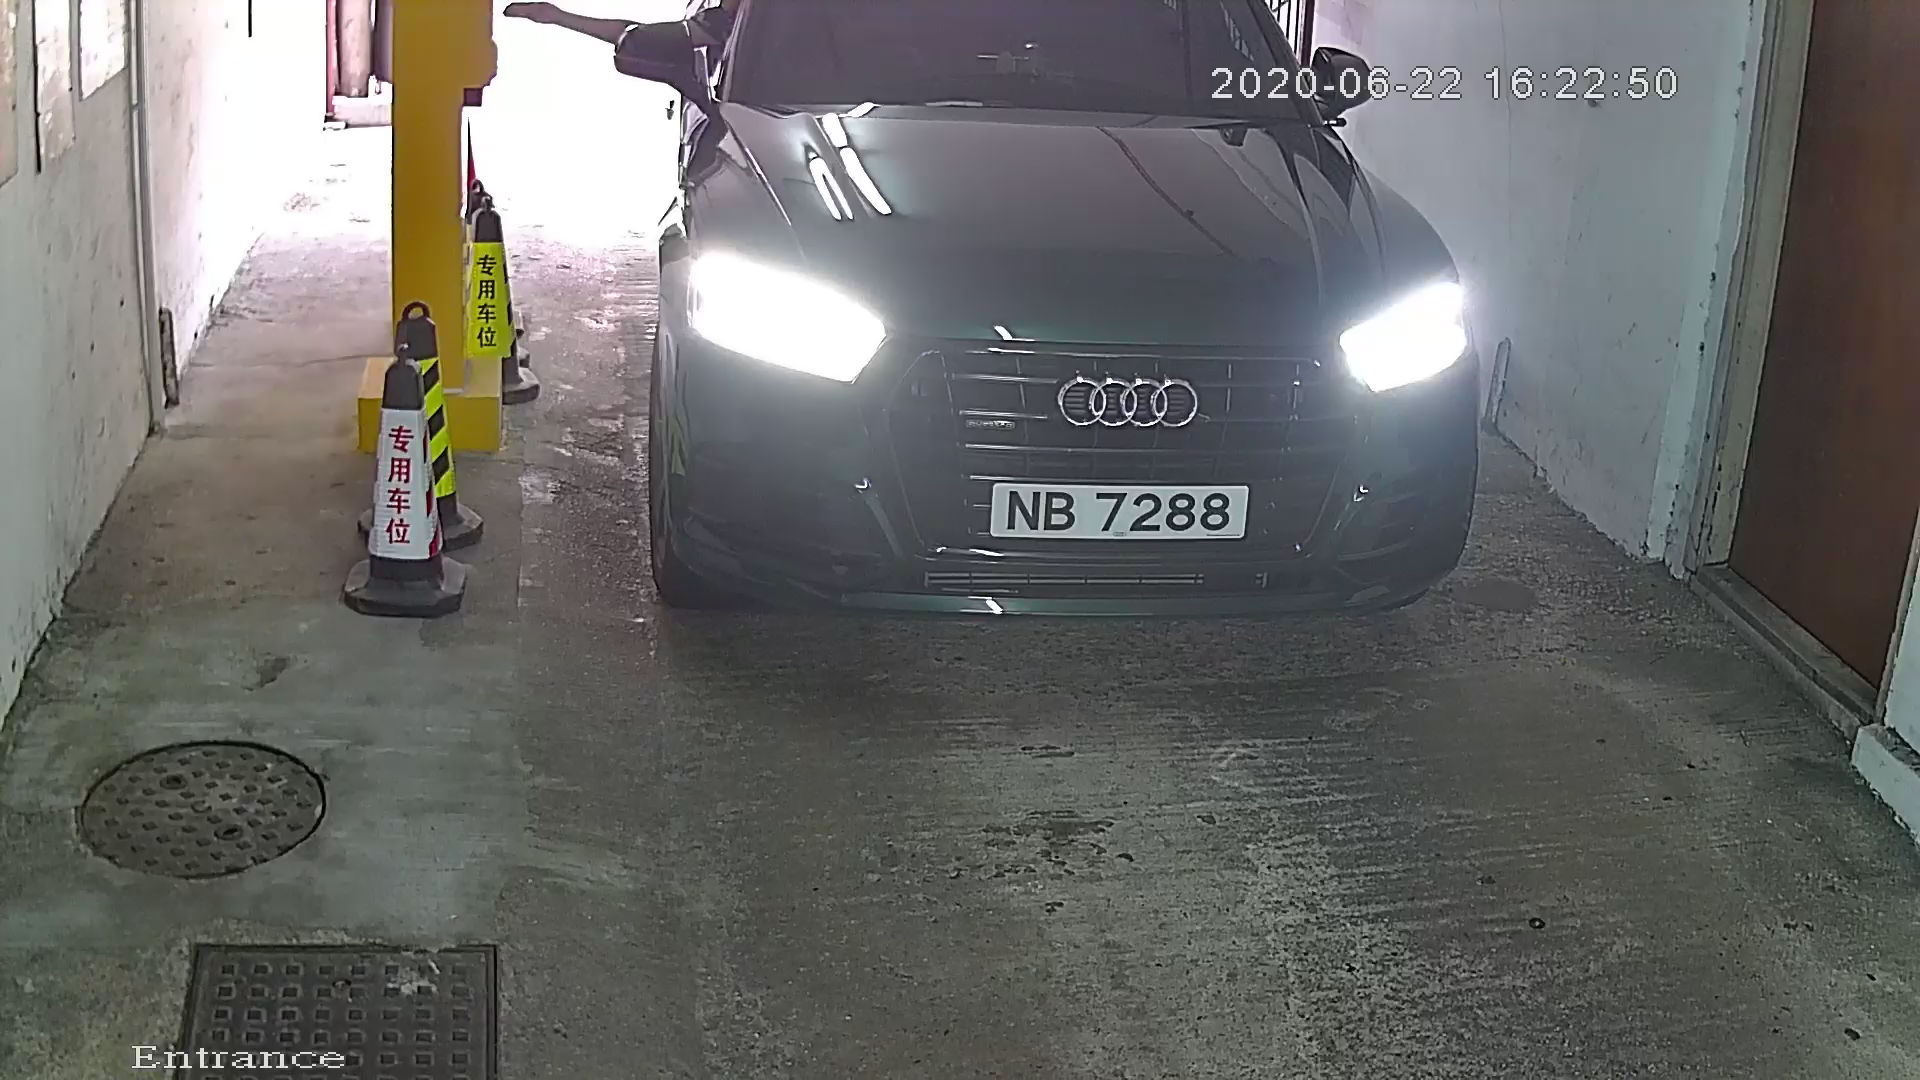privatecar: (564, 3, 1556, 703)
